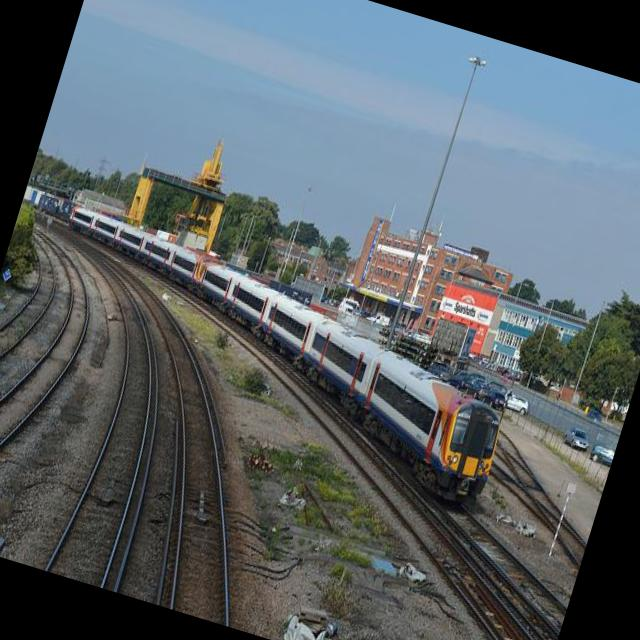car: (453, 369, 486, 397), (560, 424, 592, 452), (588, 442, 616, 468), (463, 377, 492, 402), (504, 395, 532, 419), (480, 388, 508, 410), (426, 360, 452, 380), (448, 366, 470, 389), (368, 311, 391, 328), (487, 382, 508, 397), (585, 408, 604, 421), (352, 308, 372, 320), (388, 322, 405, 332)
train: (19, 202, 534, 514)
truck: (338, 294, 365, 316), (364, 310, 390, 327)
